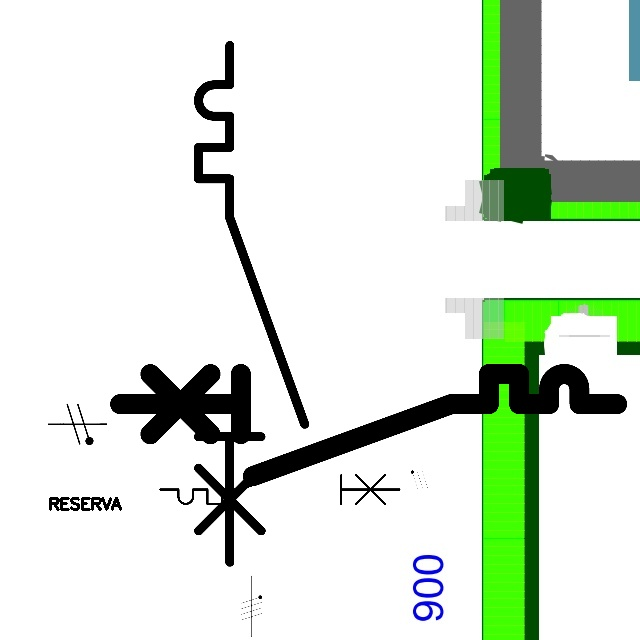interruptor_termomagnetico: (185, 32, 318, 575), (107, 361, 629, 489), (154, 449, 406, 510)
